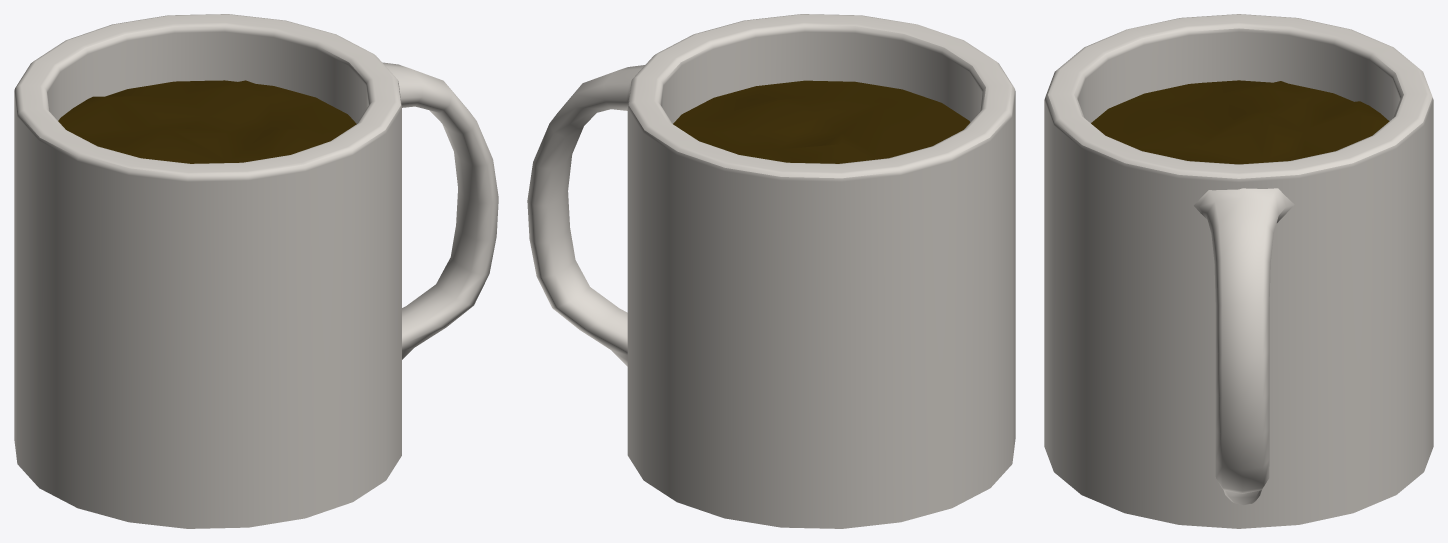
File: mug.fbx
3 views of the same model, side by side, from view 1: azimuth 30°, elevation 25°; view 2: azimuth 150°, elevation 25°; view 3: azimuth 270°, elevation 25° (orthographic).
Visible parts, largest first — view 1: pCylinder4, pDisc1, pCube4; view 2: pCylinder4, pDisc1, pCube4; view 3: pCylinder4, pCube4, pDisc1.
Boxes of the visible parts, left/top/right/bottom form: pCylinder4: left=14, top=14, right=401, bottom=528; pDisc1: left=58, top=80, right=356, bottom=163; pCube4: left=382, top=62, right=498, bottom=359; pCylinder4: left=627, top=14, right=1015, bottom=528; pDisc1: left=673, top=80, right=970, bottom=163; pCube4: left=527, top=65, right=644, bottom=366; pCylinder4: left=1044, top=14, right=1433, bottom=528; pCube4: left=1194, top=188, right=1294, bottom=505; pDisc1: left=1091, top=80, right=1389, bottom=164.
Bounding box in the file's own units: 4.29 × 3.19 × 3.19.
